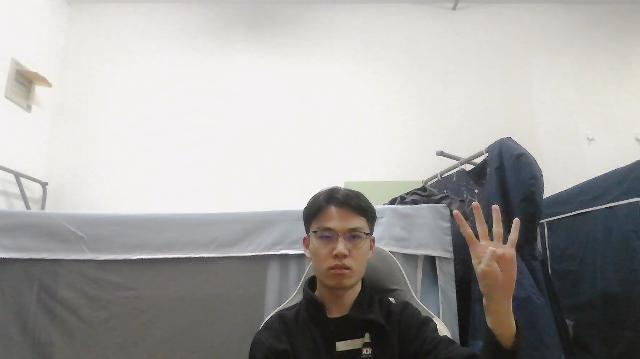four: (452, 200, 521, 304)
